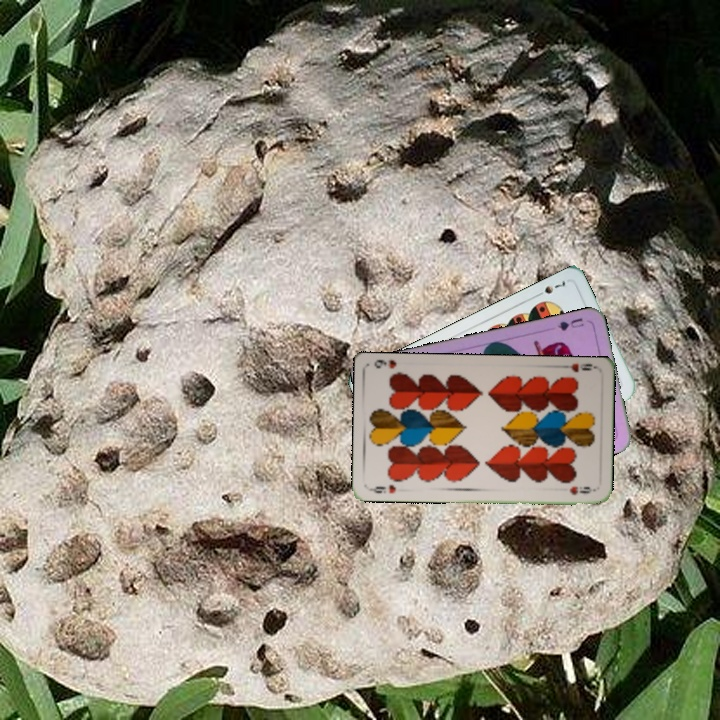GU: (553, 314, 586, 333)
H9: (558, 360, 598, 374), (367, 481, 398, 496)
S7: (531, 276, 568, 300)
